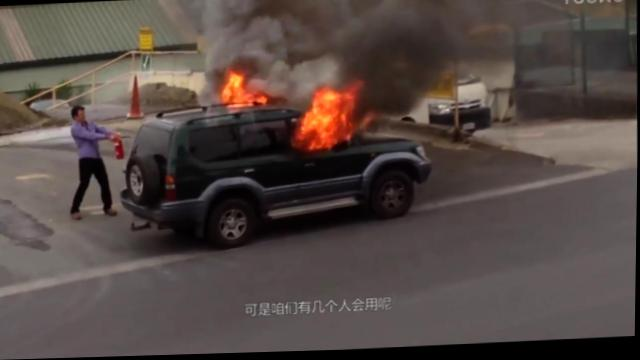fire: (299, 90, 352, 151), (221, 71, 248, 105), (248, 93, 265, 103)
